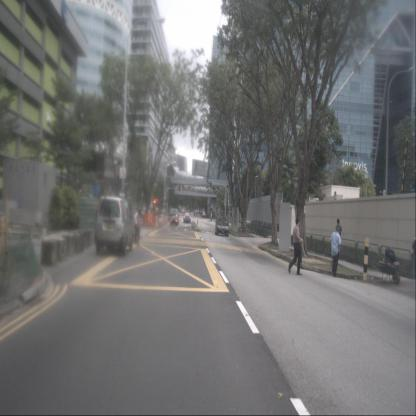human-pedestrian-adult: (288, 218, 304, 275), (330, 226, 341, 276), (335, 219, 342, 260), (134, 208, 139, 245), (137, 209, 141, 245)
movable_object-barrier: (143, 214, 154, 227), (151, 216, 156, 227), (156, 216, 158, 227)
vehicle-car: (94, 197, 134, 255), (215, 216, 229, 236), (183, 212, 191, 223)
vehicle-truck: (170, 209, 179, 226)
